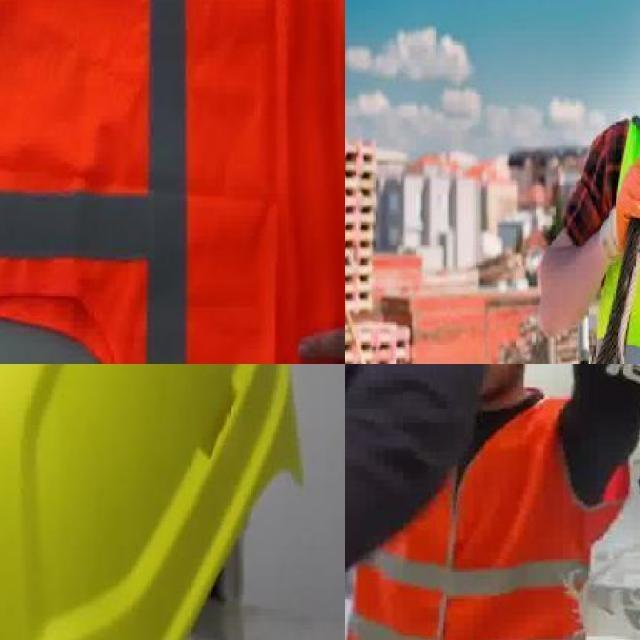apron: (599, 150, 640, 266)
